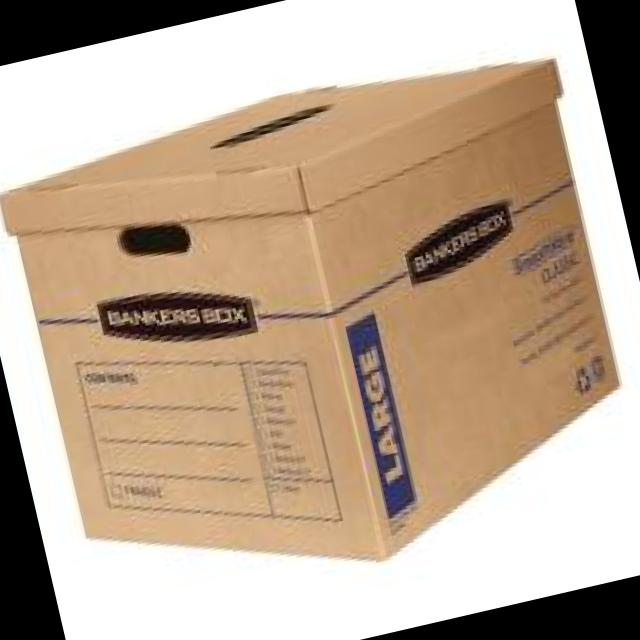box: (1, 58, 624, 563)
normal_hole: (116, 222, 195, 257)
